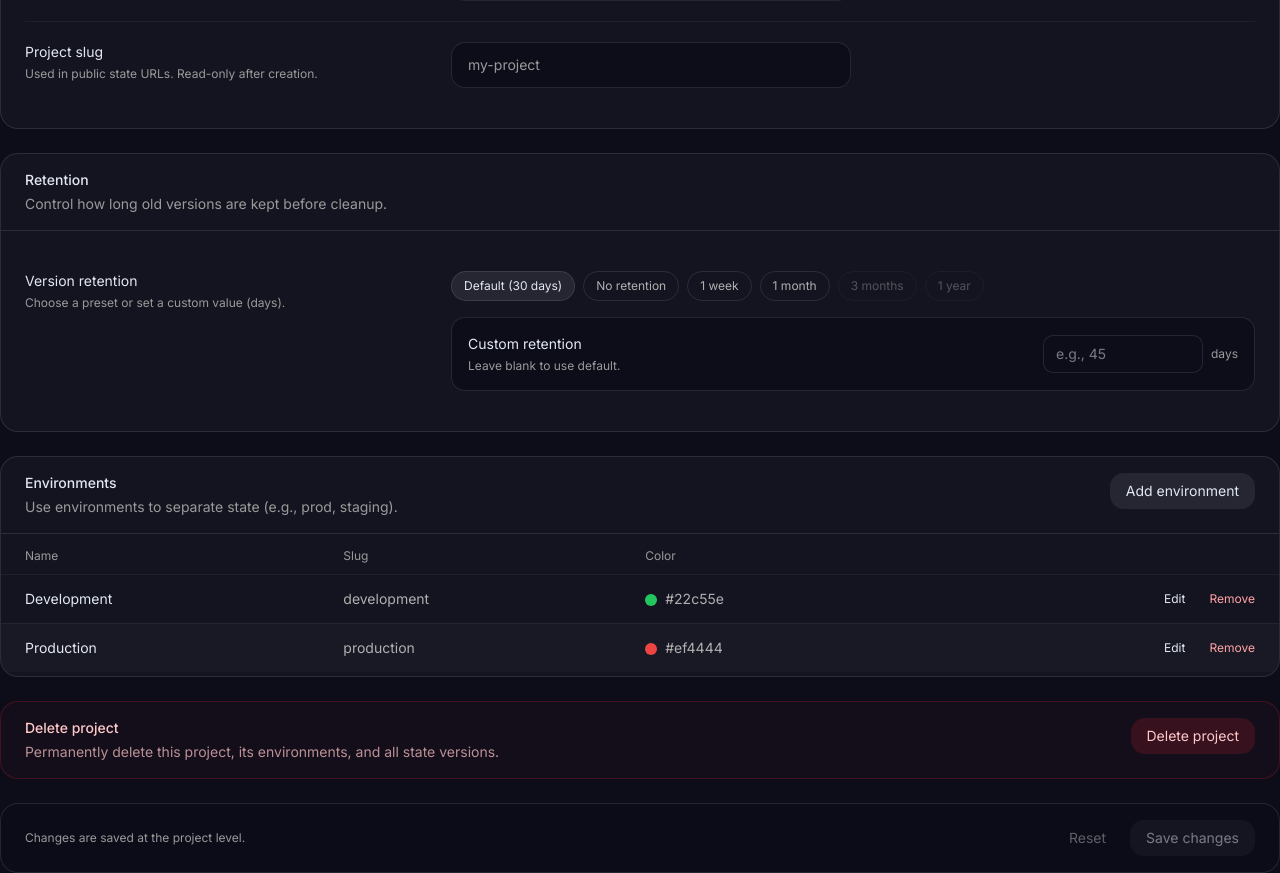
Test: SettingsTab › opens delete project dialog when button clicked
(page scrolled)
Step 1. Click the button "Delete project" → (1193, 736), box [1130,718,1255,754]
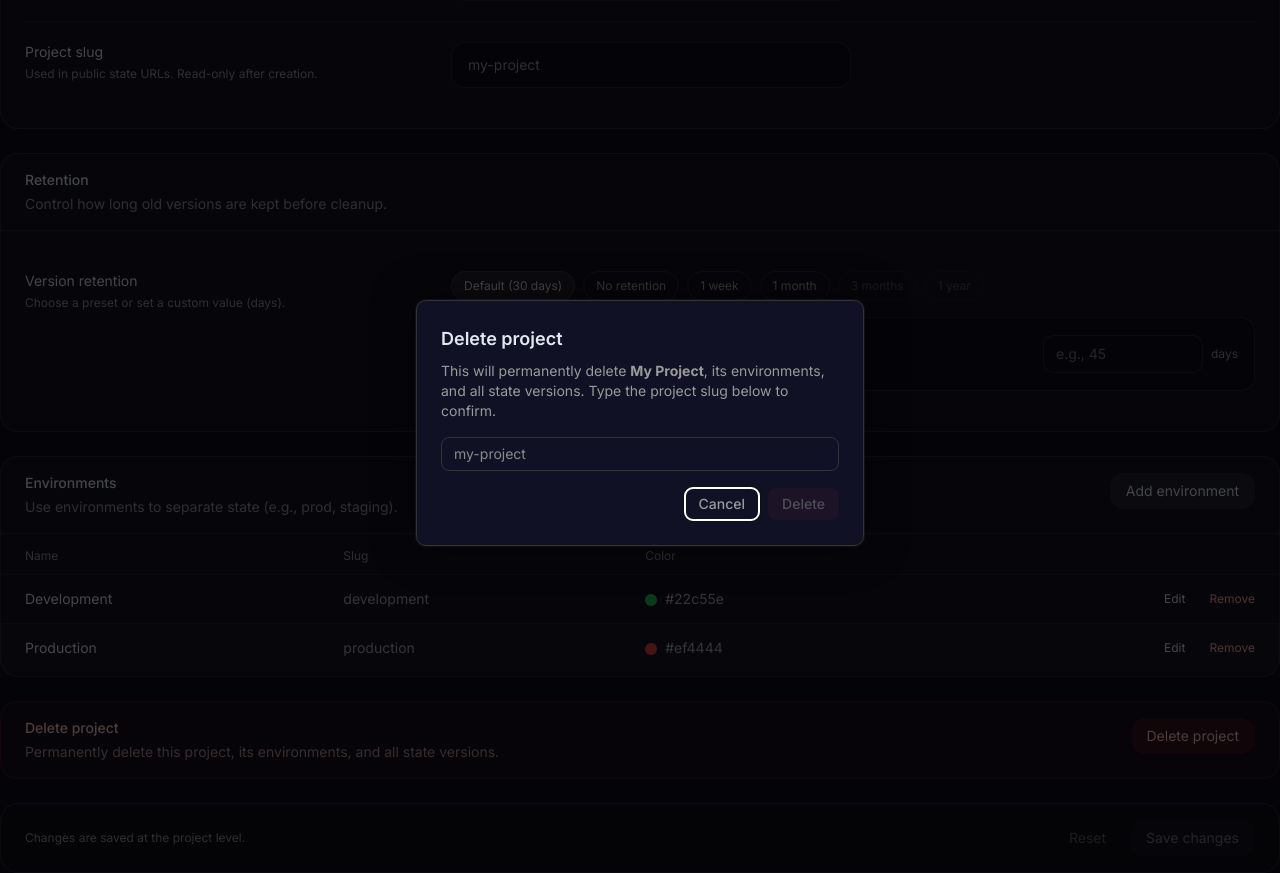
Result: the text "This will permanently delete" is shown at [441,362,630,379]
Result: the field with placeholder "my-project" is shown at [441,437,839,471]
